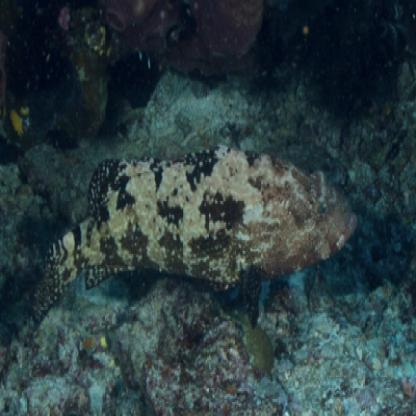Serranidae -Groupers-: (27, 144, 360, 325)
